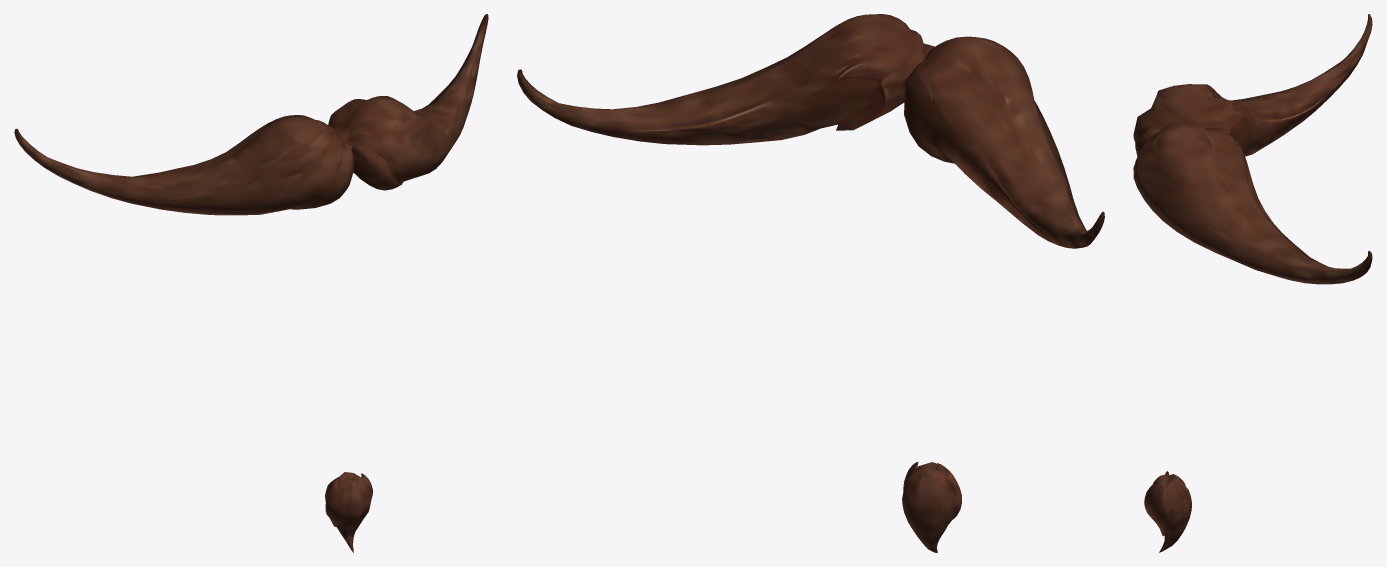
3 renders of one model, left to right at view 1: azimuth 30°, elevation 25°; view 2: azimuth 150°, elevation 25°; view 3: azimuth 270°, elevation 25°, orthographic. The views are drawn at different scales.
Visible parts, largest first — view 1: tripo_node_2fe49f1a-501b-4df8-8b6c-82993ec798ac; view 2: tripo_node_2fe49f1a-501b-4df8-8b6c-82993ec798ac; view 3: tripo_node_2fe49f1a-501b-4df8-8b6c-82993ec798ac.
Boxes of the visible parts, x1,y1,x2,y2 form: tripo_node_2fe49f1a-501b-4df8-8b6c-82993ec798ac: [14, 14, 488, 552]; tripo_node_2fe49f1a-501b-4df8-8b6c-82993ec798ac: [517, 14, 1104, 552]; tripo_node_2fe49f1a-501b-4df8-8b6c-82993ec798ac: [1133, 14, 1372, 552].
Size of the model in its own units: 0.9995 by 0.8716 by 0.4243.
Materials: 1 (1 with a texture image).
